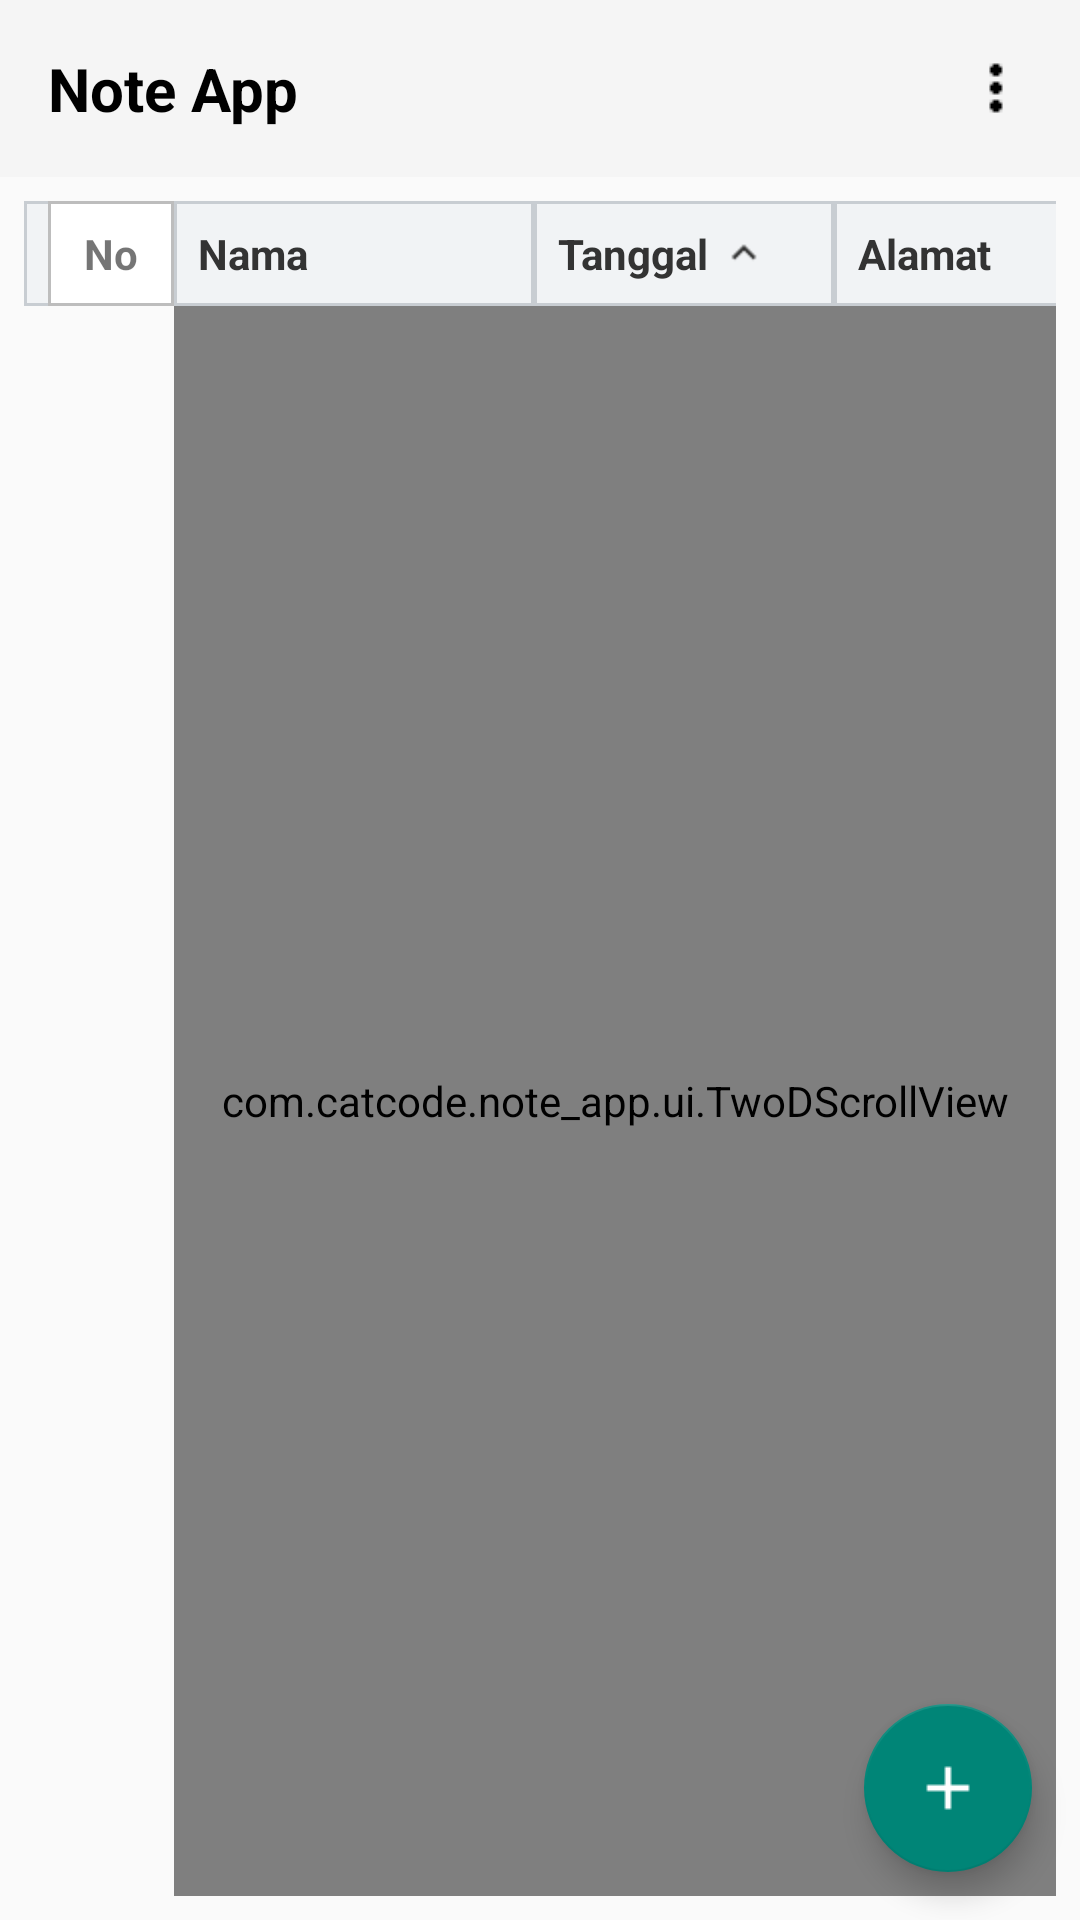

Screen size 1080 × 1920. Icon name, then its center in pixels as (x,y):
Add Note: (948,1788)
arrow up: (743,252)
Menu: (996,88)
